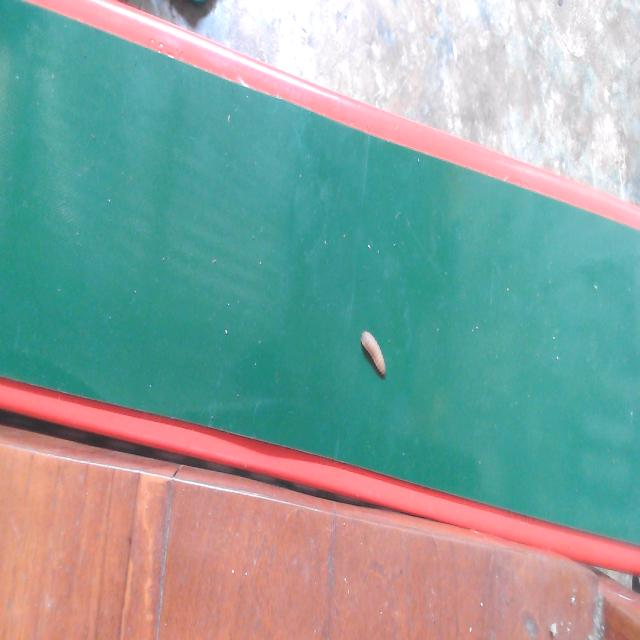Maggot: (360, 331, 388, 380)
